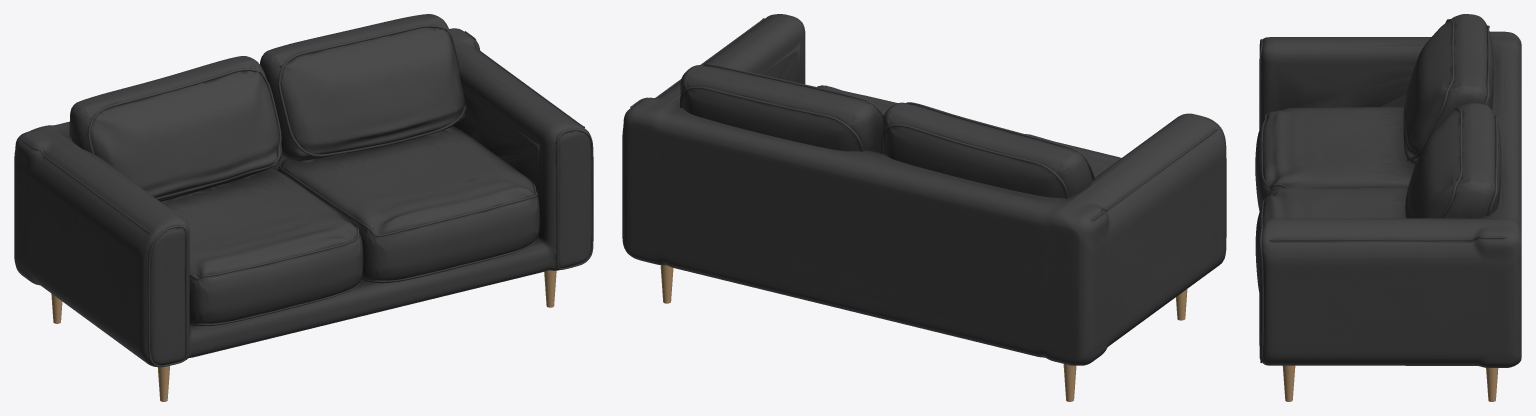
The model's file is cuero-negro.gltf.
3 views of the same model, side by side, from view 1: azimuth 30°, elevation 25°; view 2: azimuth 150°, elevation 25°; view 3: azimuth 270°, elevation 25° (orthographic). The views are drawn at different scales.
Visible parts, largest first — view 1: tela_ar, madera_ar; view 2: tela_ar, madera_ar; view 3: tela_ar, madera_ar.
Boxes of the visible parts, x1,y1,x2,y2 form: tela_ar: [14, 14, 593, 367]; madera_ar: [51, 270, 556, 401]; tela_ar: [622, 14, 1226, 365]; madera_ar: [660, 265, 1187, 401]; tela_ar: [1255, 14, 1521, 367]; madera_ar: [1282, 365, 1498, 401].
Size of the model in its own units: 1.7 by 0.8275 by 0.9121.
2 materials, 2 textured.
